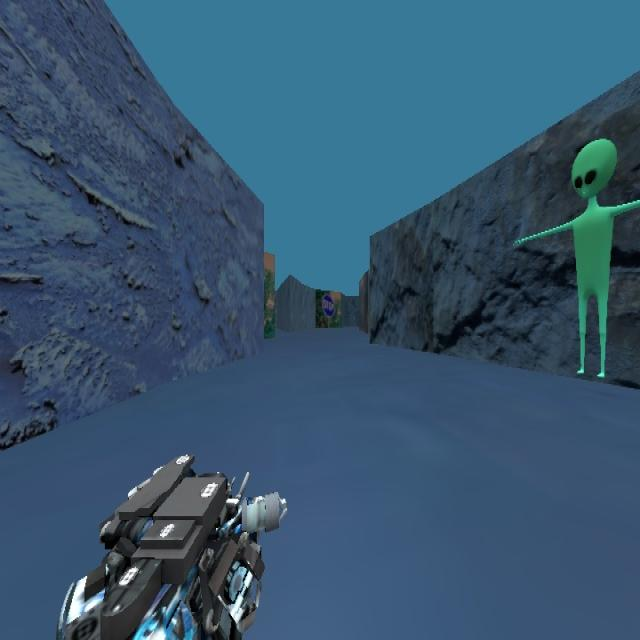Alien: (512, 136, 639, 377)
Stop_Sign: (316, 286, 342, 326), (321, 292, 335, 317)
